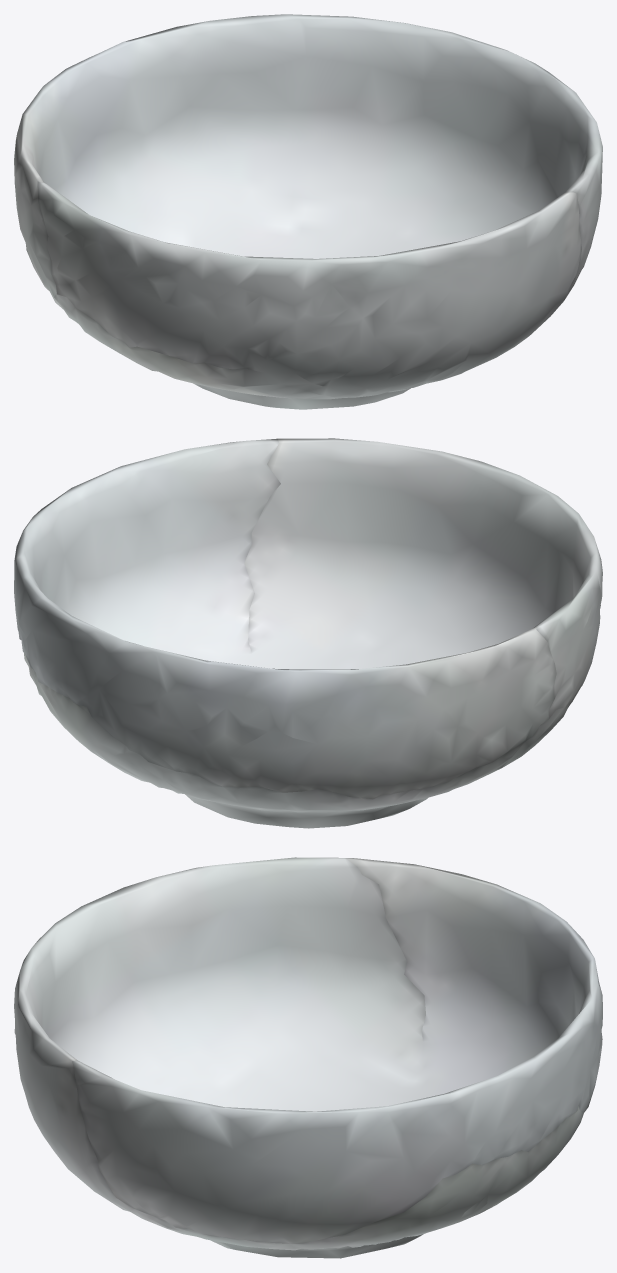
File: Threshold_Bead_Cereal_Bowl_White-medium.glb
The picture shows the model from 3 angles, top to bottom: view 1: azimuth 30°, elevation 25°; view 2: azimuth 150°, elevation 25°; view 3: azimuth 270°, elevation 25°; orthographic projection.
Parts seen in each view (by area): view 1: Threshold_Bead_Cereal_Bowl_White; view 2: Threshold_Bead_Cereal_Bowl_White; view 3: Threshold_Bead_Cereal_Bowl_White.
Boxes of the visible parts, box(x1,y1,x2,y2) form: Threshold_Bead_Cereal_Bowl_White: box(14, 14, 602, 409); Threshold_Bead_Cereal_Bowl_White: box(14, 438, 602, 828); Threshold_Bead_Cereal_Bowl_White: box(14, 857, 602, 1258).
Size of the model in its own units: 0.1698 by 0.0706 by 0.1663.
1 material, 1 textured.
